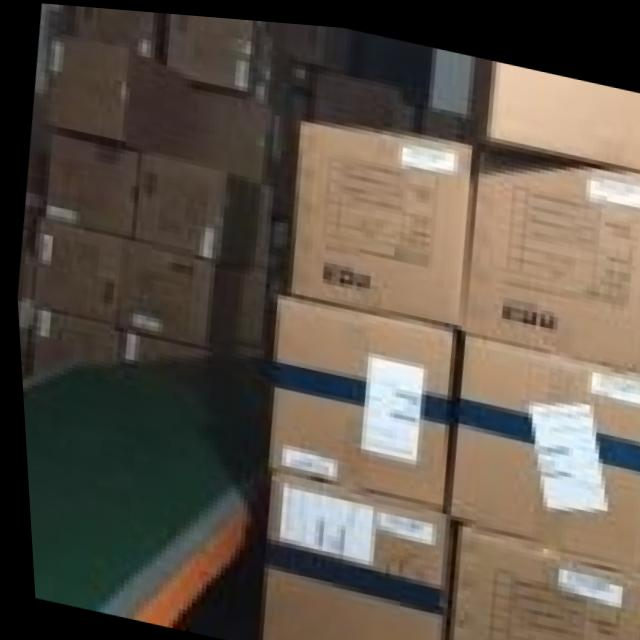box: (444, 324, 640, 556), (262, 290, 454, 503), (462, 139, 640, 360), (288, 115, 471, 323), (250, 471, 445, 640), (441, 518, 639, 640), (463, 48, 640, 165), (47, 34, 182, 153), (111, 234, 243, 349), (137, 148, 255, 262), (171, 79, 283, 183), (26, 220, 120, 333), (43, 133, 145, 235), (162, 11, 262, 98), (69, 5, 158, 60)
